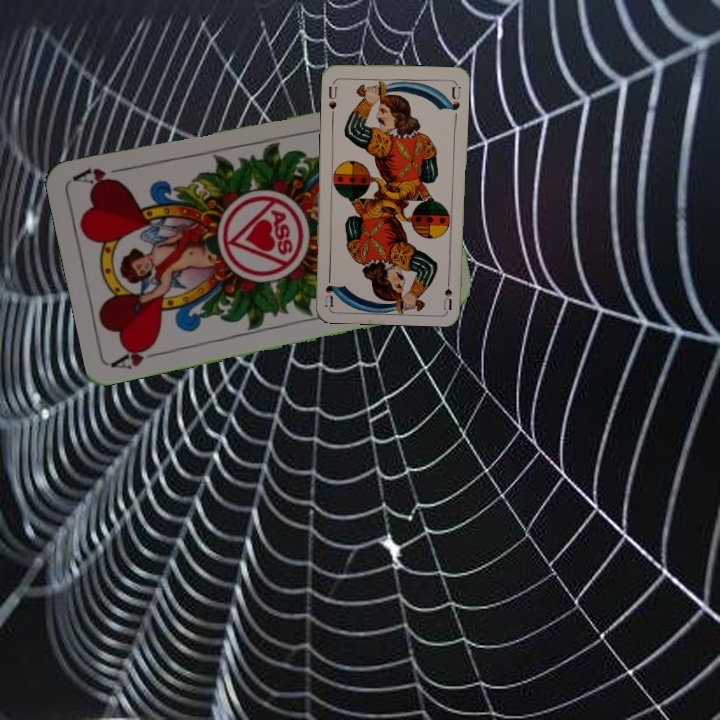HA: (109, 339, 167, 372)
SU: (440, 270, 455, 311), (325, 78, 339, 112)
